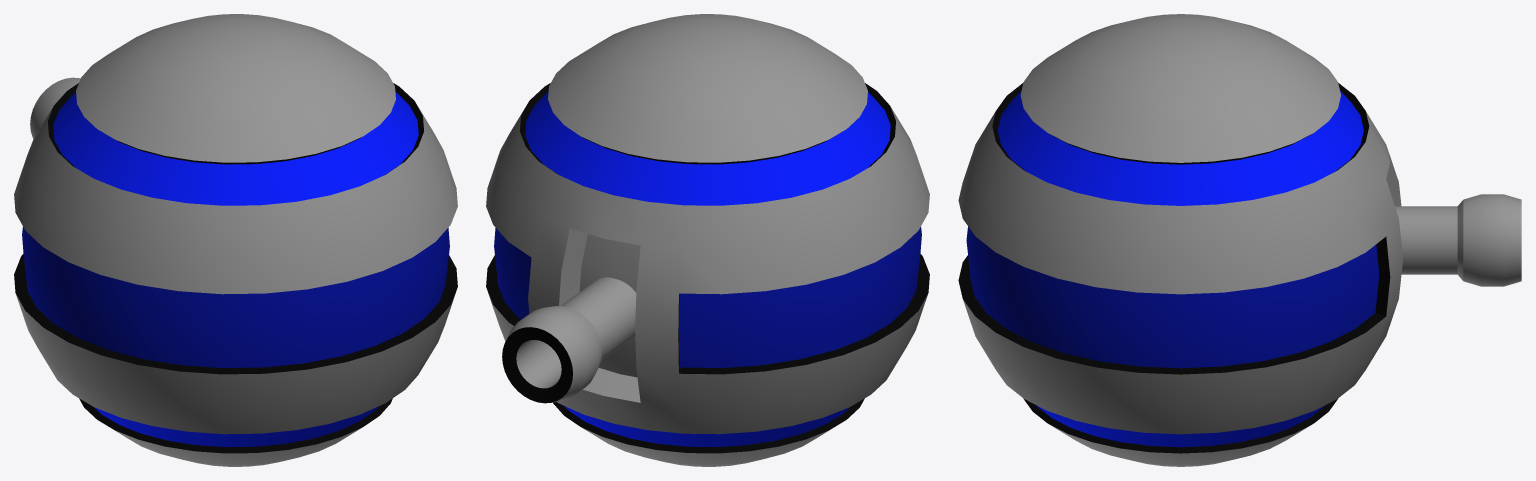
File: Cannon.fbx
The picture shows the model from 3 angles, left to right: view 1: azimuth 30°, elevation 25°; view 2: azimuth 150°, elevation 25°; view 3: azimuth 270°, elevation 25°; orthographic projection.
Parts seen in each view (by area): view 1: Sphere; view 2: Sphere; view 3: Sphere.
Part boxes in pixels (bbox=[...]): Sphere: bbox=[14, 14, 457, 466]; Sphere: bbox=[486, 14, 929, 466]; Sphere: bbox=[958, 14, 1521, 466].
Bounding box in the file's own units: 196 × 200 × 248.
